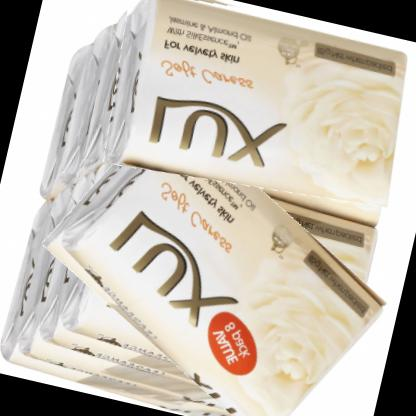soap: (26, 121, 415, 415), (96, 0, 415, 226)
